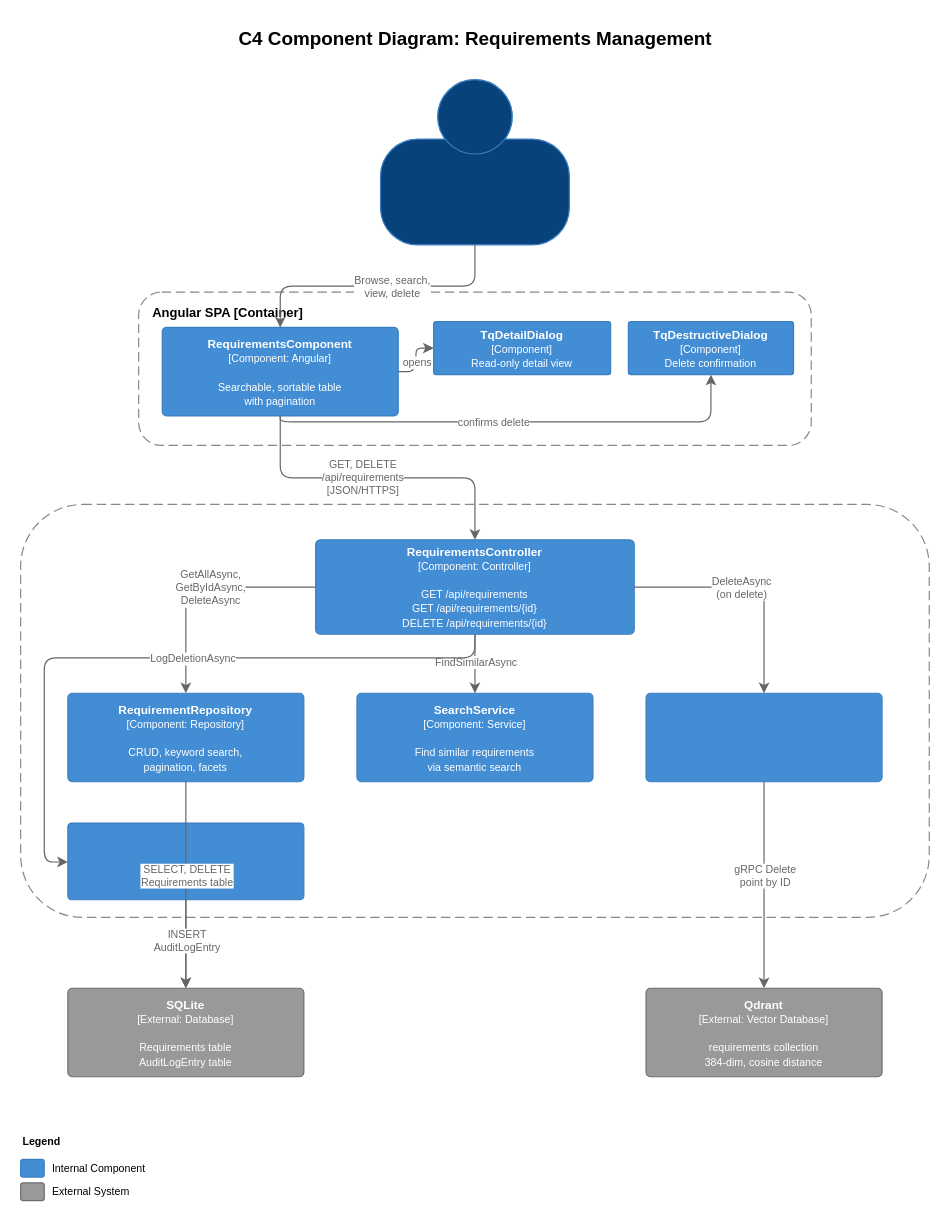
Image size: 950x1224. Some labels were removed from this diagram. The box of each missing label's shape, as (x1, y1, x2, y2) in pixels:
API Server [Container: ASP.NET Core]: (19, 503, 929, 917)
AuditService [Component: Service] Logs deletion actions for audit trail: (67, 822, 304, 900)
QdrantVectorStore [Component: Service] Delete vectors to keep stores in sync: (645, 692, 882, 782)
Systems Engineer [Person] Browses, inspects, and deletes requirements: (379, 78, 569, 245)
